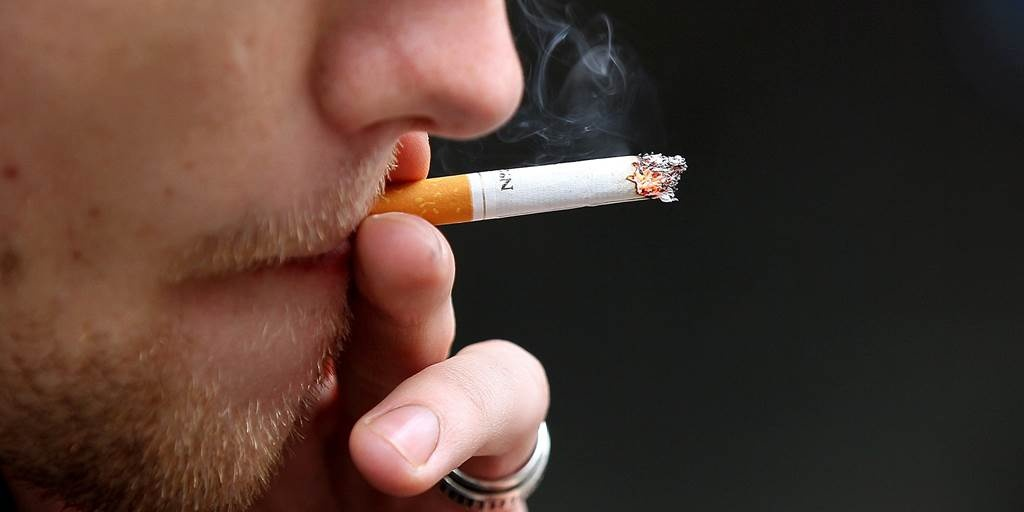sigaretta: (361, 151, 720, 247)
